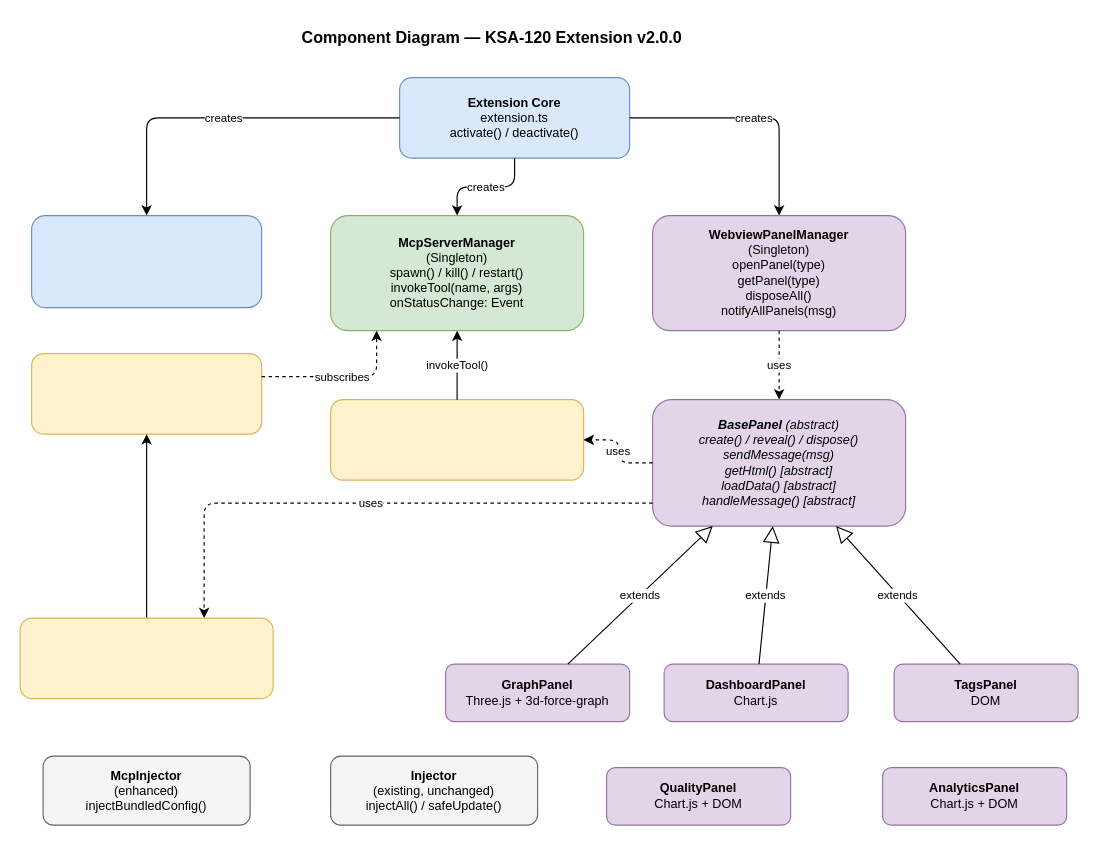
The diagram is 1098 pixels wide and 845 high, and some of its shapes have lost their labels. Here are the shapes that lost their labels. From the top down, the box of each, then its label:
(30, 214, 262, 308): CommandRegistry registerCommand() x13 handleInjectAll() handleOpenPanel()
(30, 352, 262, 434): TreeViewProvider getTreeItem() getChildren() refresh()
(329, 398, 584, 480): MessageHandler handleMessage(msg) routeToMcp() routeToPanel()
(19, 617, 273, 699): HtmlTemplateEngine getHtml(viewType, nonce) getScriptUri() getStyleUri()
